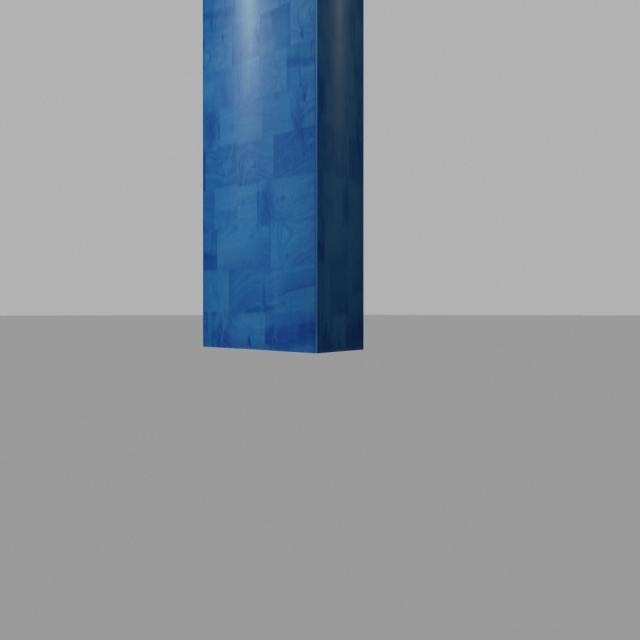shelf: (180, 0, 380, 395)
